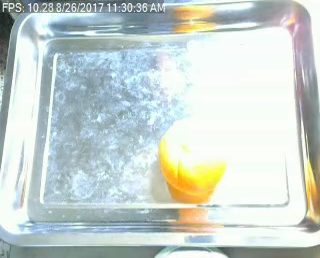Orange: (159, 117, 228, 194)
